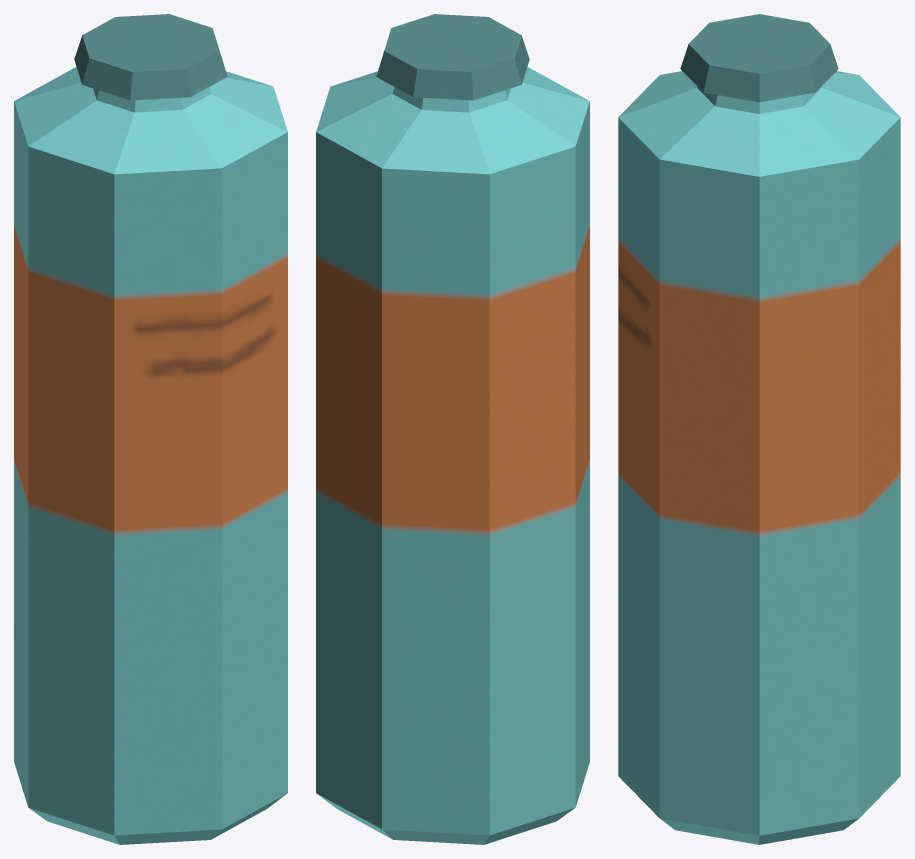
The model's file is SM_Food_09.fbx.
3 renders of one model, left to right at view 1: azimuth 30°, elevation 25°; view 2: azimuth 150°, elevation 25°; view 3: azimuth 270°, elevation 25°, orthographic.
Parts seen in each view (by area): view 1: SM_Food_09; view 2: SM_Food_09; view 3: SM_Food_09.
Boxes of the visible parts, <box> form: SM_Food_09: <box>14,14,287,844</box>; SM_Food_09: <box>316,14,589,844</box>; SM_Food_09: <box>618,14,900,844</box>.
Bounding box in the file's own units: 8.05 × 23.61 × 8.05.
